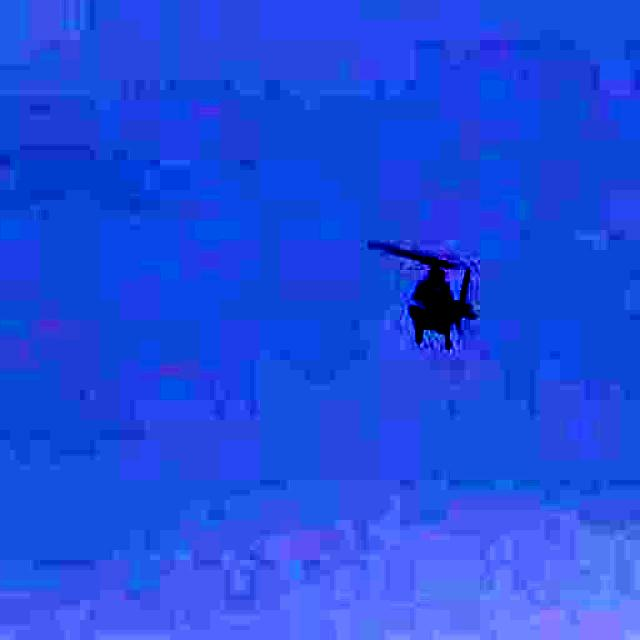drone: (335, 205, 539, 365)
